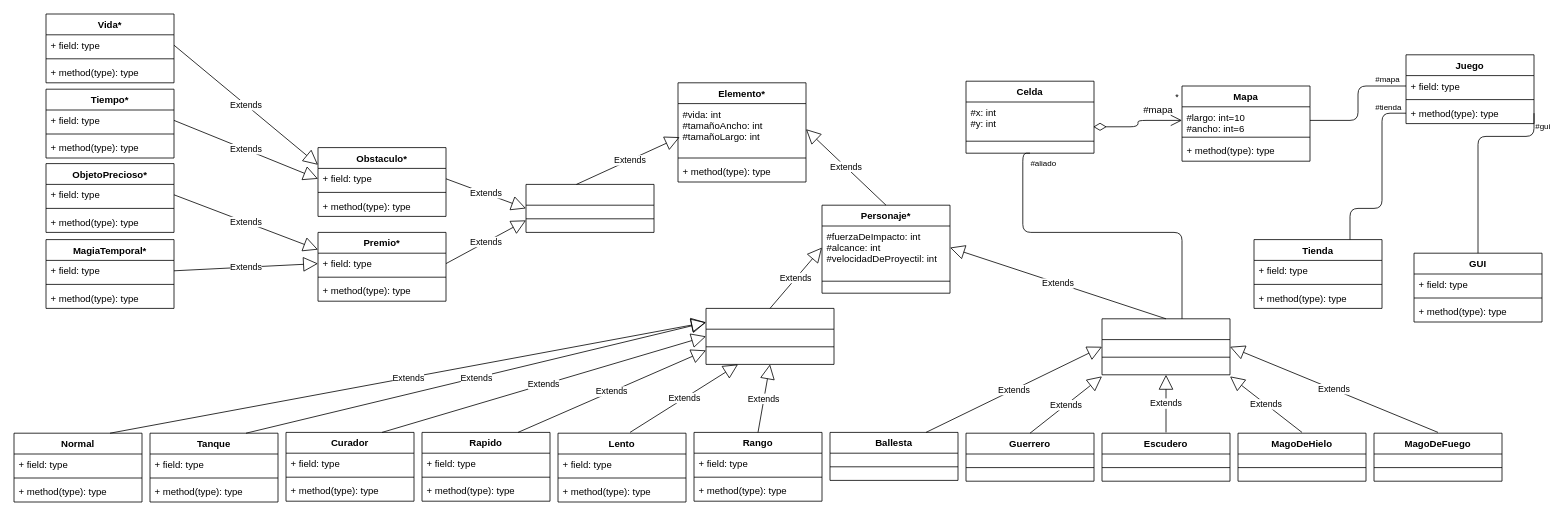
Some shapes in this 1565 by 518 pixel diagram are drawn without their labels. Each missing label, with the centre of its shape:
Aliado*: (x=1165, y=346)
Enemigo*: (x=769, y=336)
Objeto*: (x=589, y=208)
